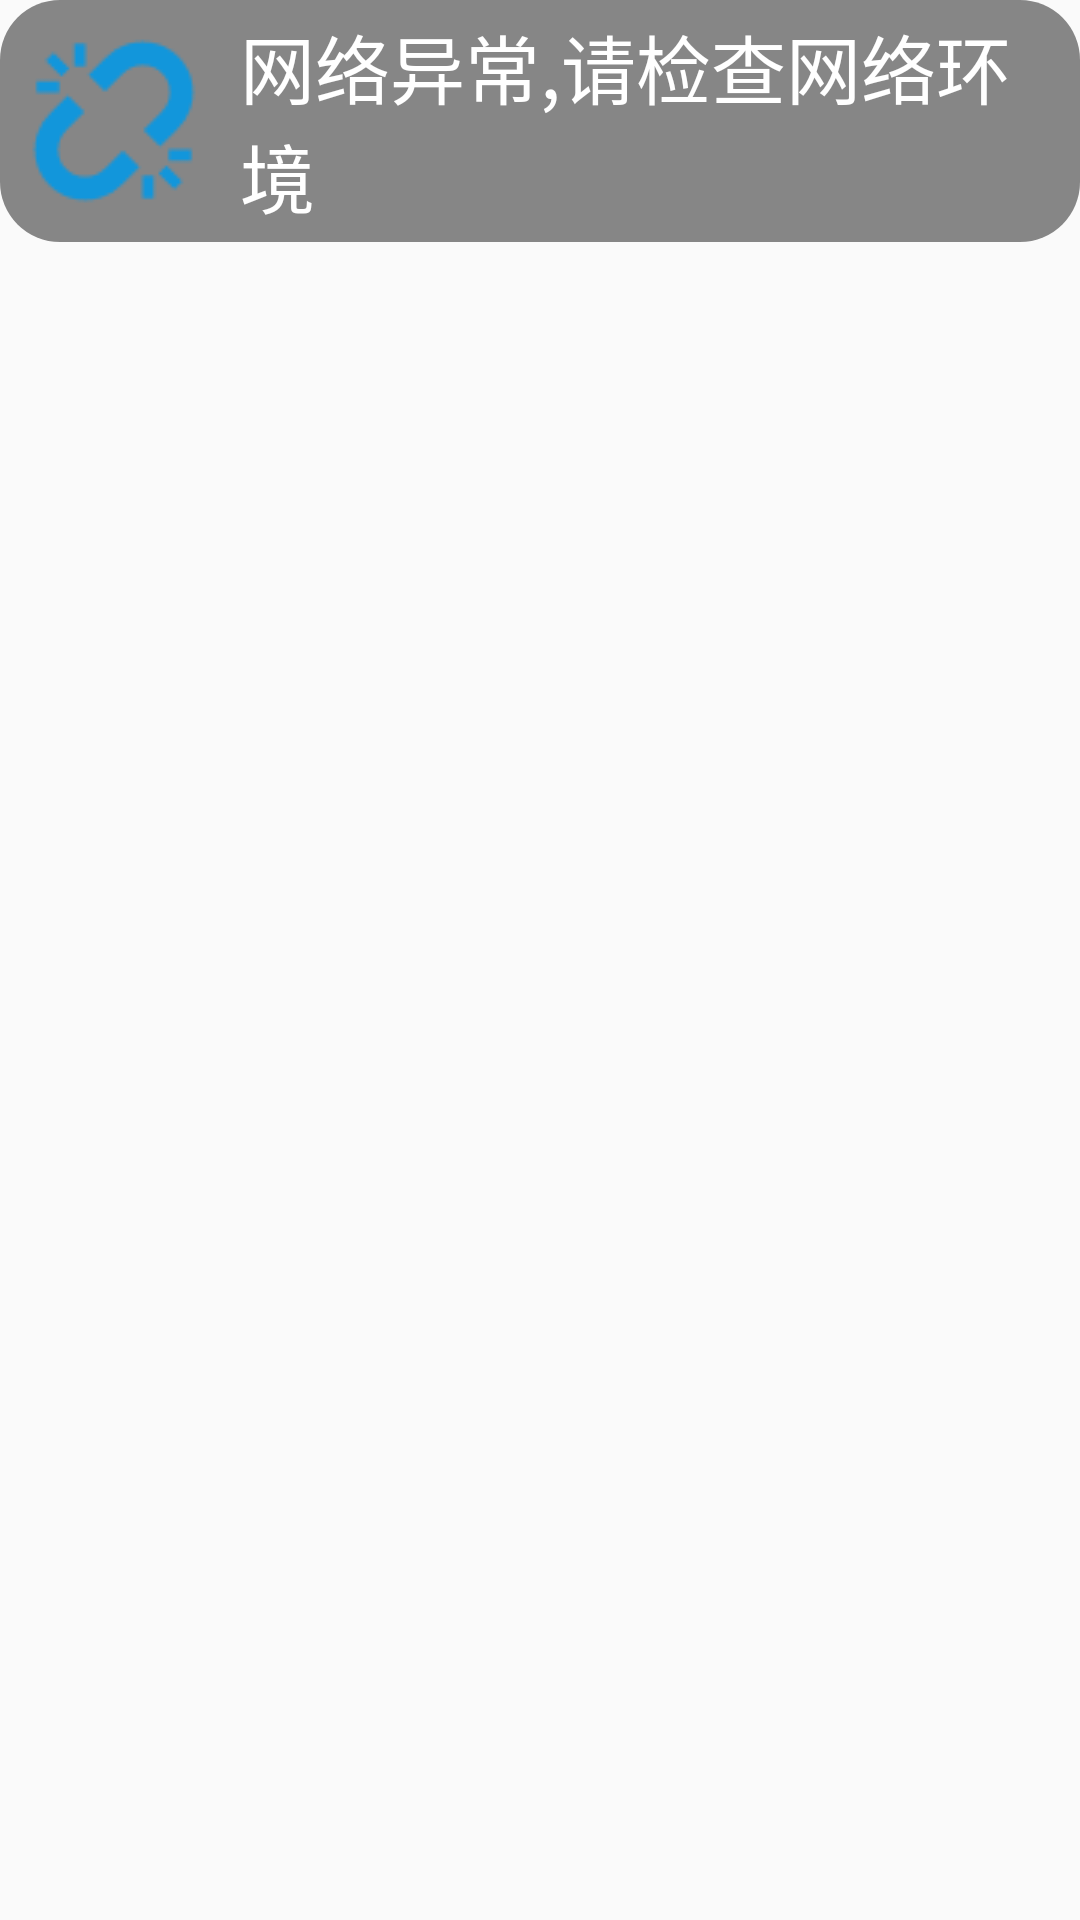

Where to tap for icons on this 1080 x 1920 app screen, as point (x, y):
offline: point (114, 121)
